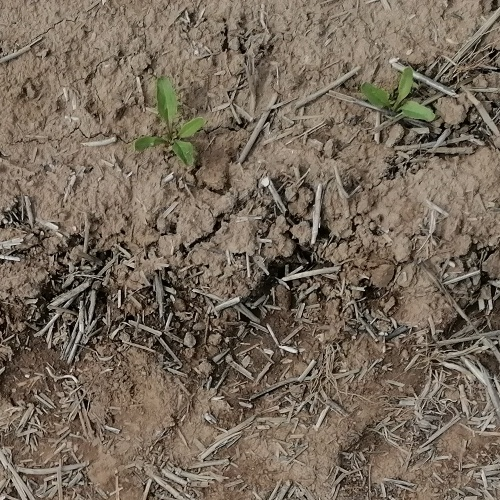beet: (133, 75, 206, 169), (354, 64, 437, 126)
